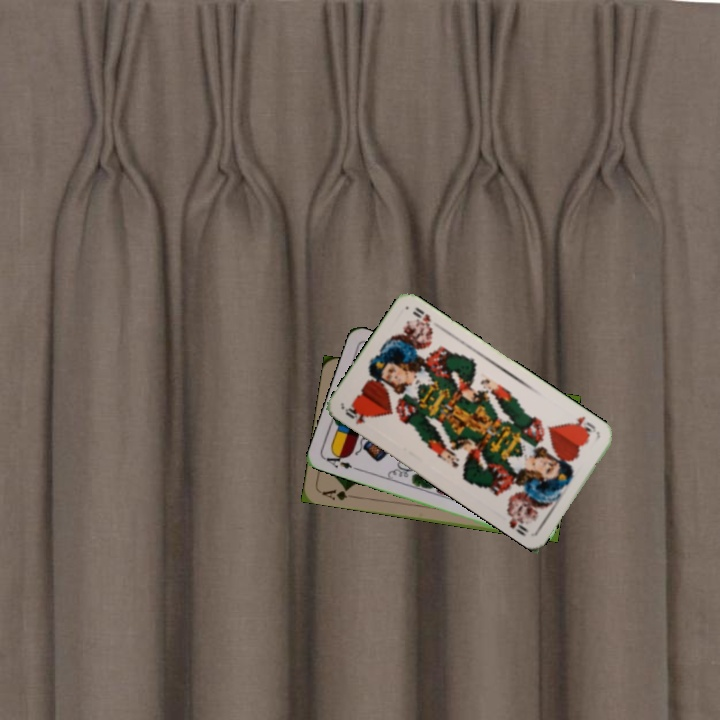EA: (320, 448, 355, 472)
GA: (318, 484, 358, 503)
HO: (564, 412, 600, 438), (340, 402, 371, 427)
